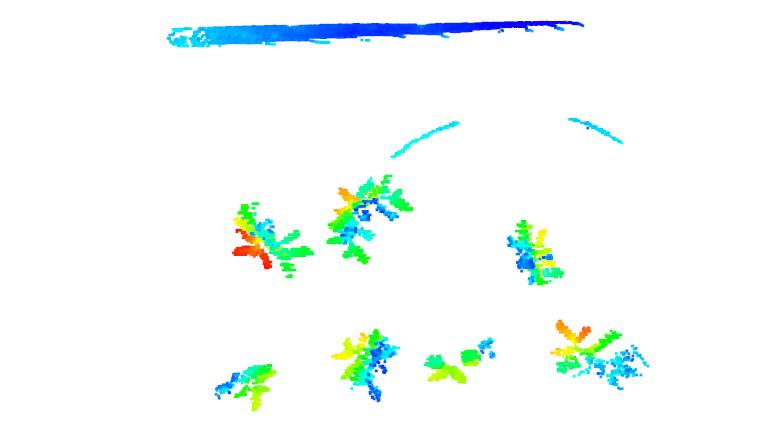chickpea: (325, 168, 411, 267), (550, 319, 649, 391), (231, 200, 316, 281), (330, 329, 403, 404), (504, 214, 565, 289), (422, 336, 501, 387), (210, 360, 279, 414)
